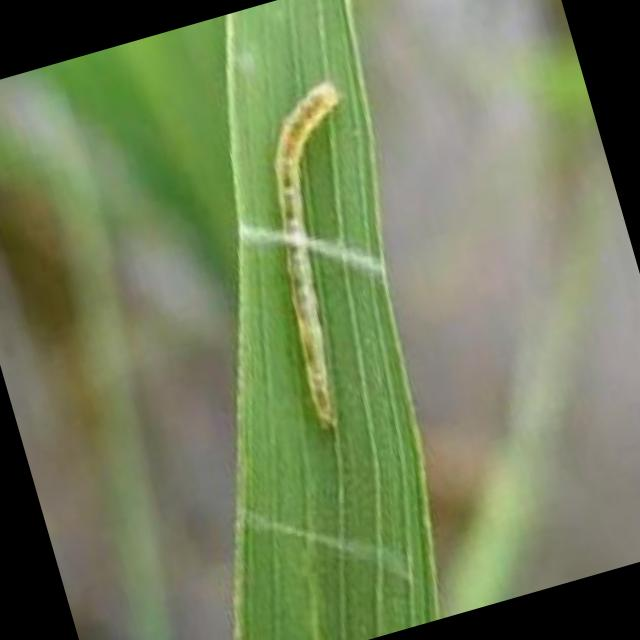leaf-folder: (190, 54, 444, 457)
